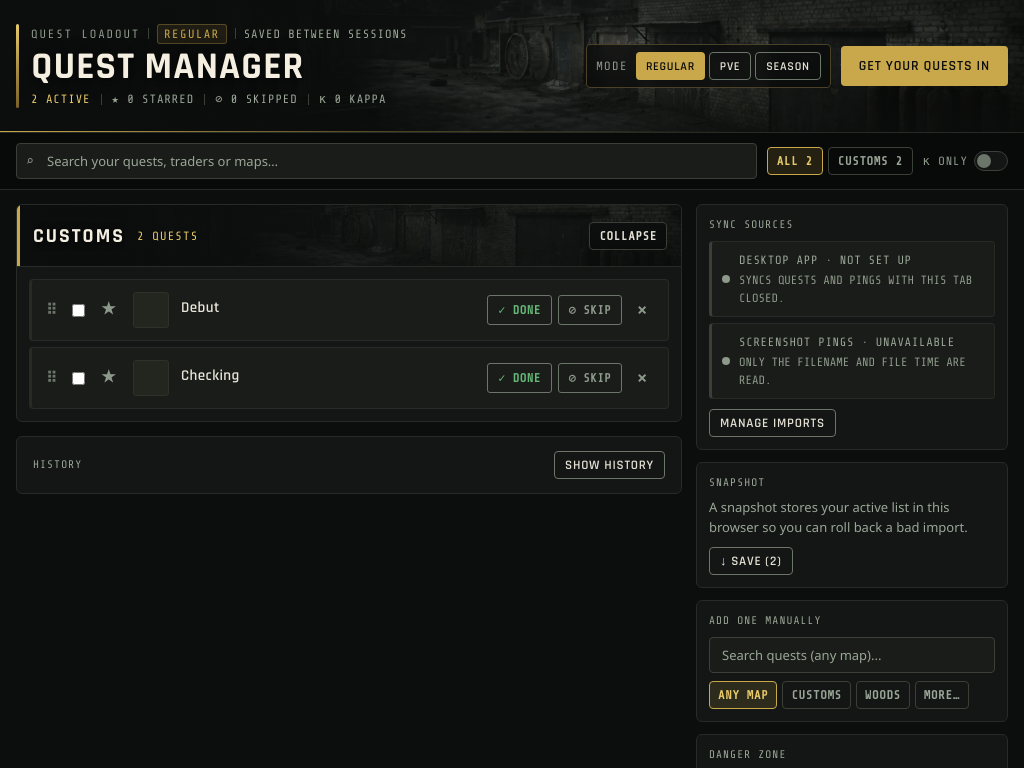
it: MyQuests kappa filter › keeps only the kappa quests when the toggle is on
This screenshot has width=1024, height=768.
Click the button named "κ ONLY" at (991, 161), box [974, 151, 1008, 171]
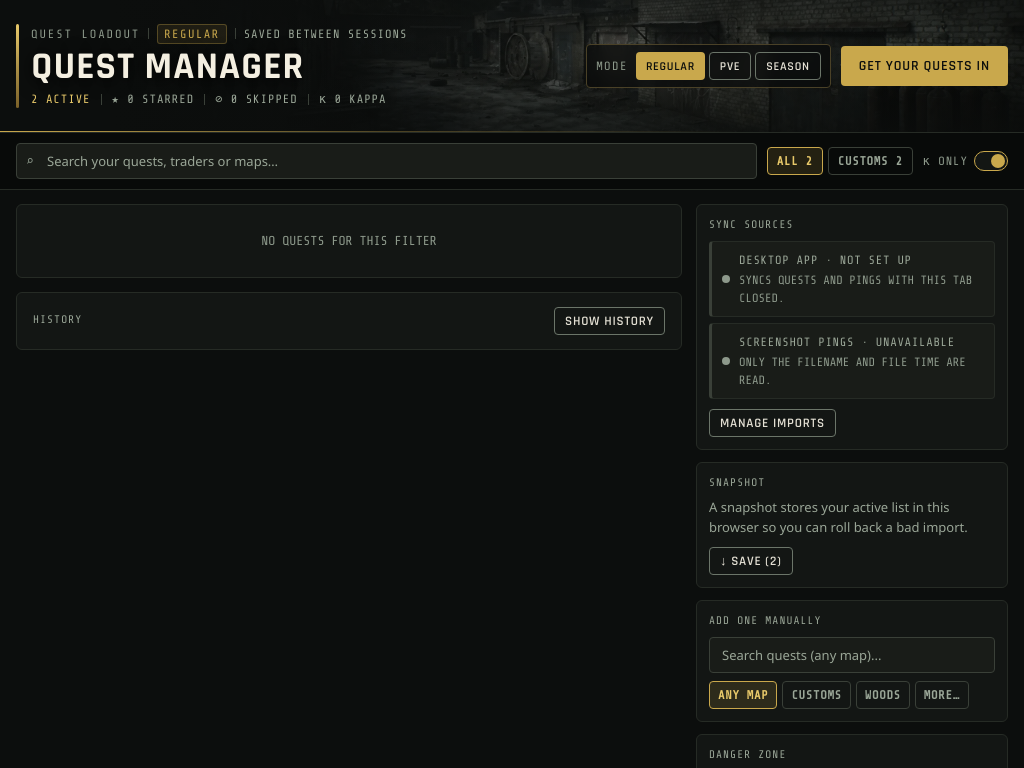
Now the text "NO QUESTS FOR THIS FILTER" is shown, box [261, 233, 437, 248]
